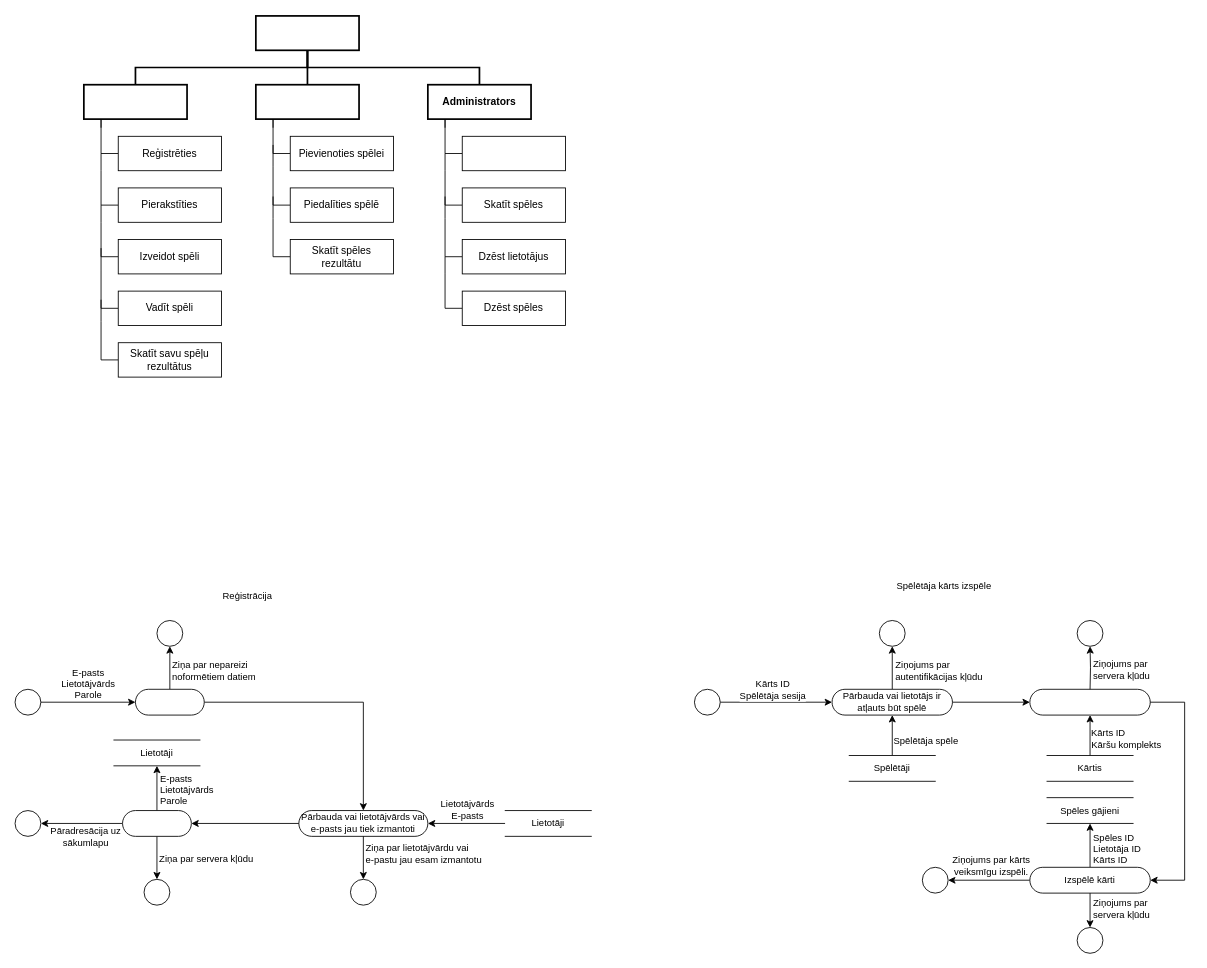
This 1207x968 diagram has some shape labels left out. The box of each missing label's shape, as (x1, y1, x2, y2) in pixels:
Datu bāzes ievade: (122, 810, 191, 836)
Datu validācija: (135, 688, 204, 715)
Lietotājs: (83, 83, 187, 120)
Mājaslapa: (255, 15, 359, 51)
Pārbauda vai kārts eksistē un ir no atļauta komplekta: (1029, 688, 1150, 715)
Skatīt lietotājus: (461, 135, 565, 171)
Spēlētājs: (255, 83, 359, 120)
